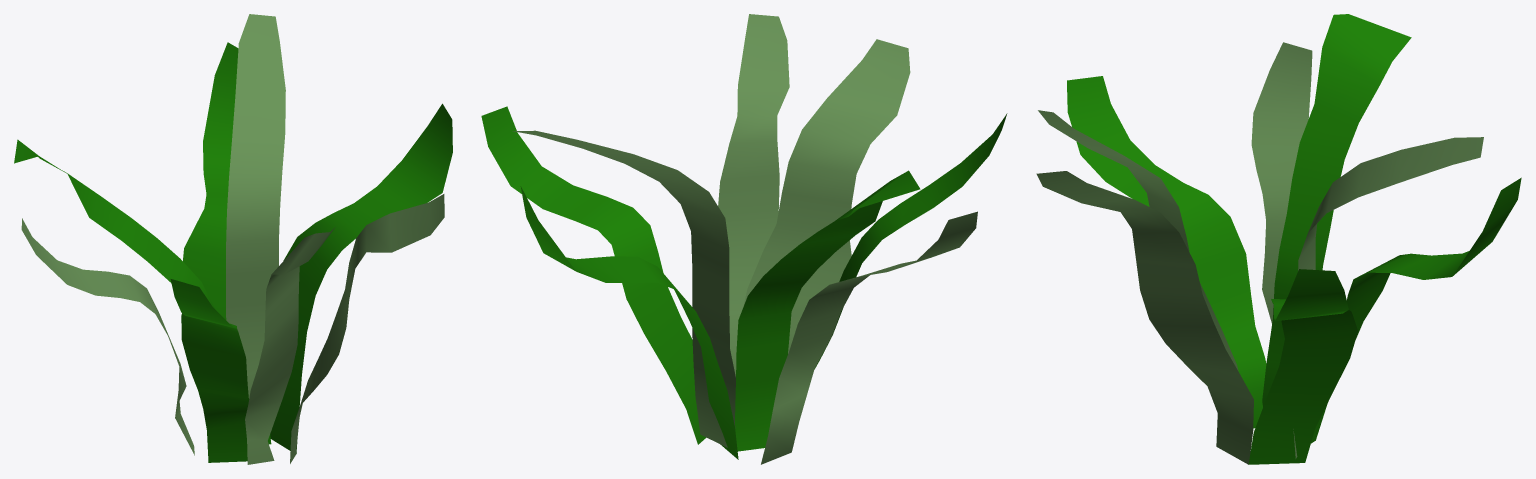
The model's file is Grass.fbx.
3 renders of one model, left to right at view 1: azimuth 30°, elevation 25°; view 2: azimuth 150°, elevation 25°; view 3: azimuth 270°, elevation 25°, orthographic. The views are drawn at different scales.
Parts seen in each view (by area): view 1: Plants.001; view 2: Plants.001; view 3: Plants.001.
Boxes of the visible parts, x1,y1,x2,y2 form: Plants.001: (14,14,452,464); Plants.001: (481,14,1007,464); Plants.001: (1036,14,1521,464).
Bounding box in the file's own units: 47.74 × 35.17 × 42.79.
